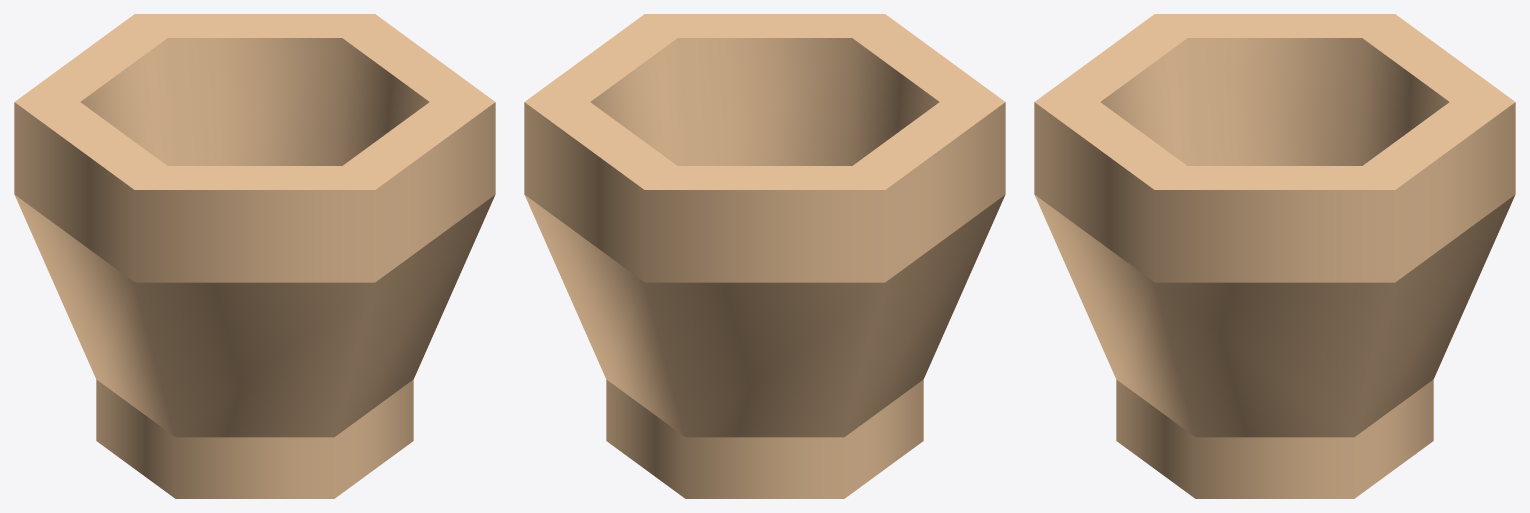
Rendered from iceCreamCup.obj.
3 renders of one model, left to right at view 1: azimuth 30°, elevation 25°; view 2: azimuth 150°, elevation 25°; view 3: azimuth 270°, elevation 25°, orthographic.
Parts seen in each view (by area): view 1: iceCreamCup; view 2: iceCreamCup; view 3: iceCreamCup.
Part boxes in pixels (<box>): iceCreamCup: <box>14,14,495,498</box>; iceCreamCup: <box>524,14,1005,498</box>; iceCreamCup: <box>1034,14,1515,498</box>.
Bounding box in the file's own units: 0.2011 × 0.1804 × 0.2322.
